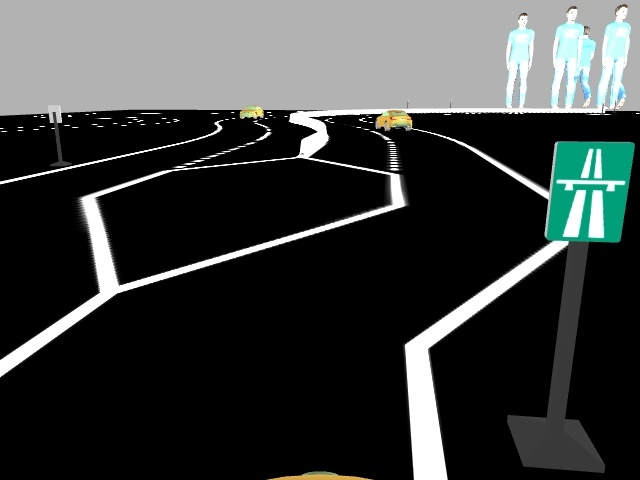HighwayEntrance: (544, 139, 633, 243)
